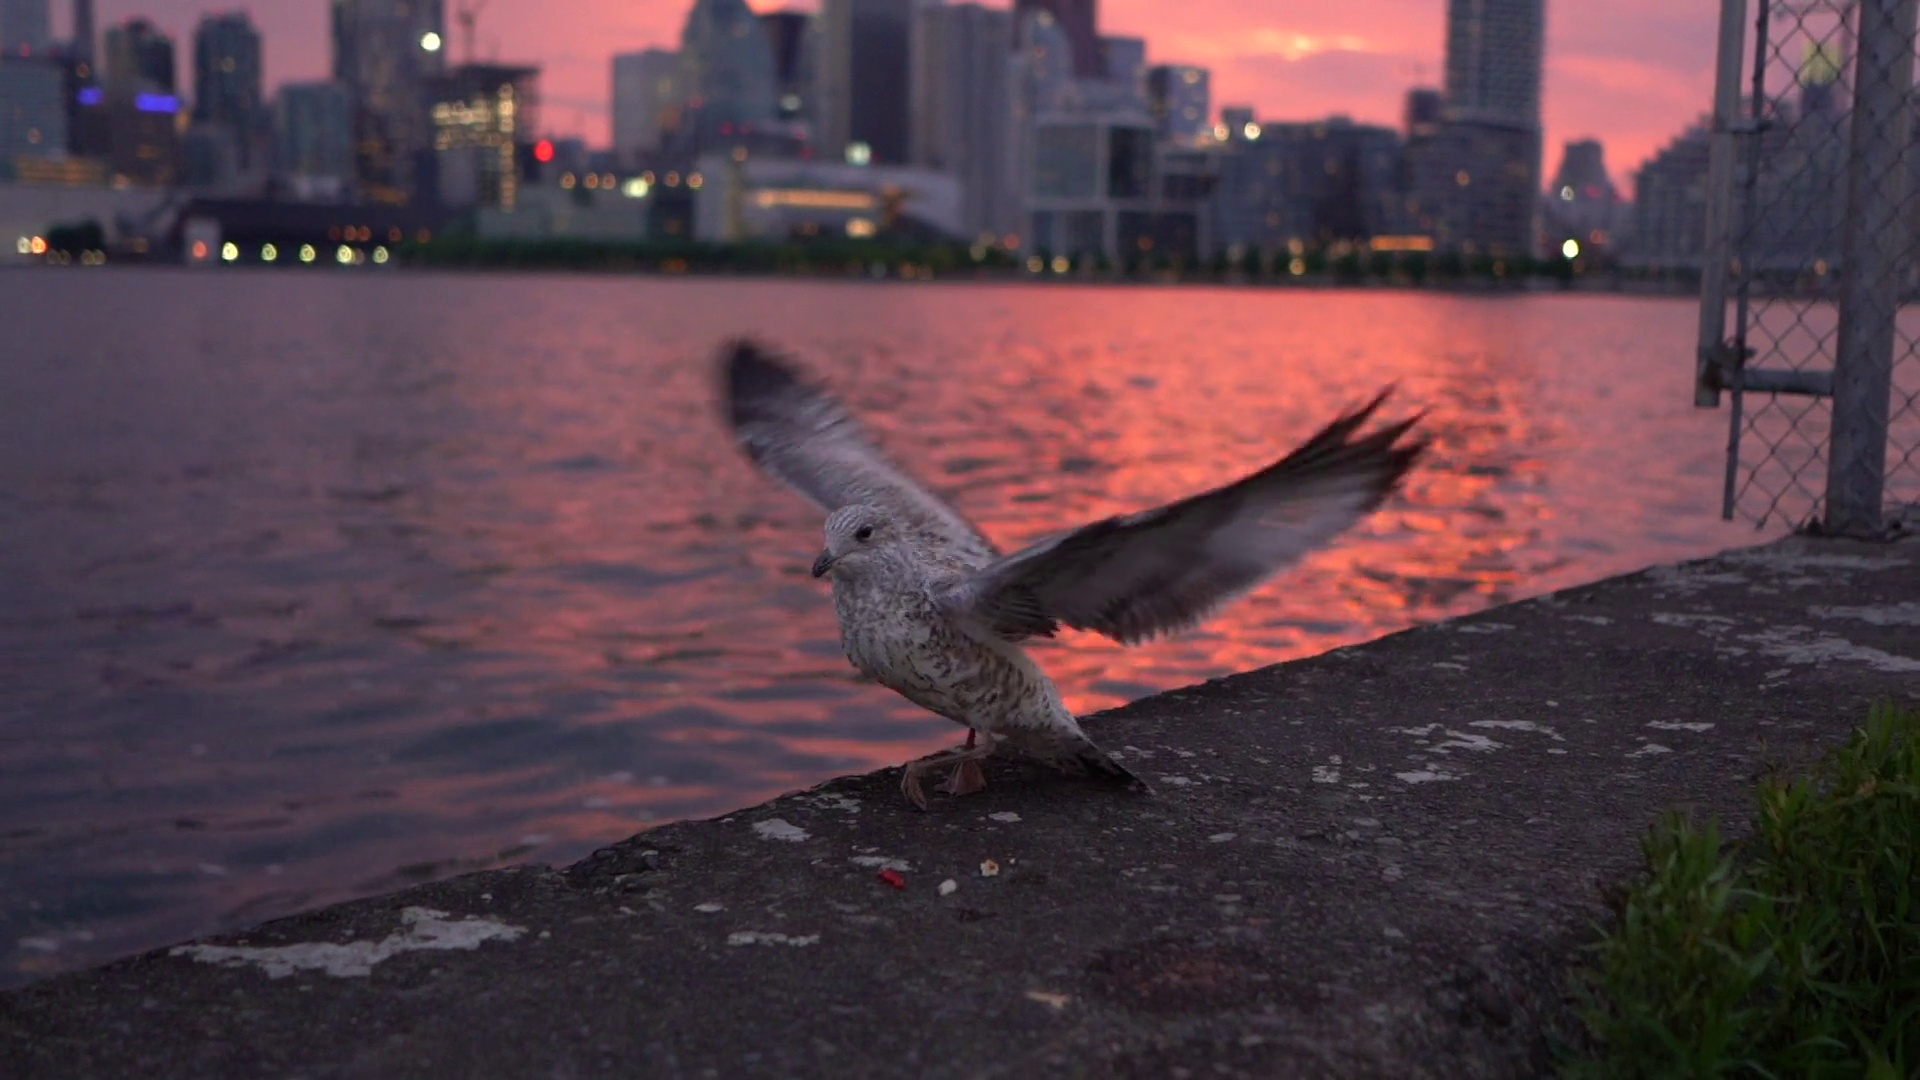bird: (724, 334, 1423, 816)
